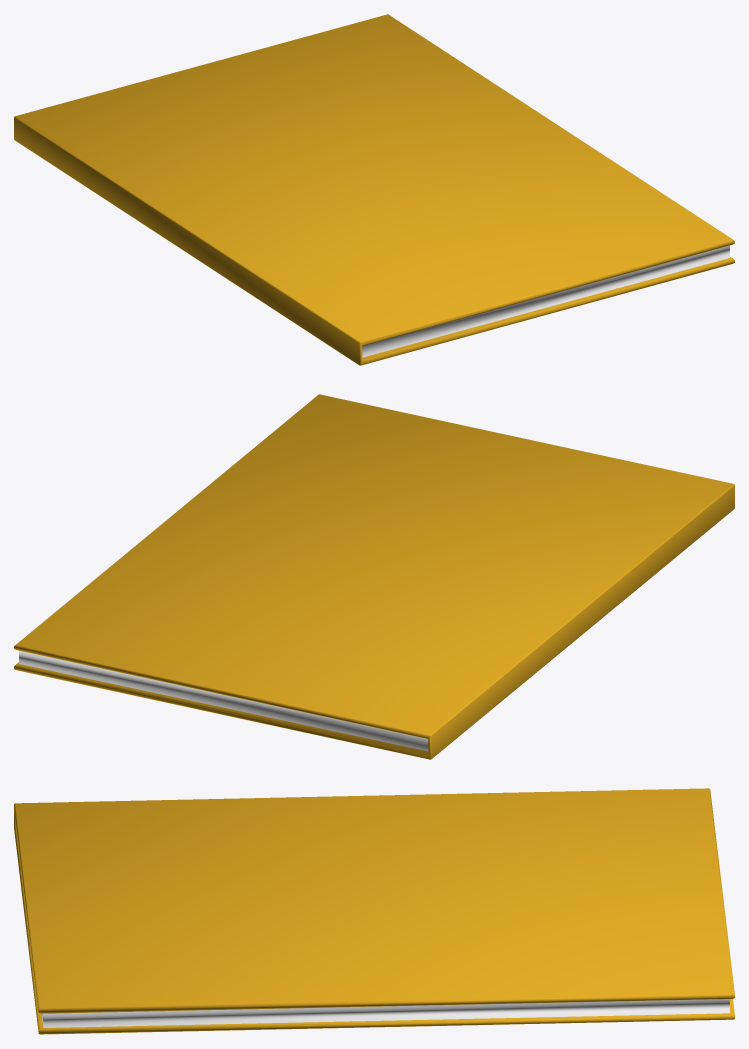
The model's file is caderno_realista.glb.
The picture shows the model from 3 angles, top to bottom: view 1: azimuth 30°, elevation 25°; view 2: azimuth 150°, elevation 25°; view 3: azimuth 270°, elevation 25°; orthographic projection. The views are drawn at different scales.
Parts seen in each view (by area): view 1: Plane; view 2: Plane; view 3: Plane.
Part boxes in pixels (x1=…): Plane: x1=14, y1=14, x2=734, y2=365; Plane: x1=14, y1=394, x2=734, y2=759; Plane: x1=14, y1=788, x2=734, y2=1034.
Bounding box in the file's own units: 0.2168 × 0.012 × 0.2988.
